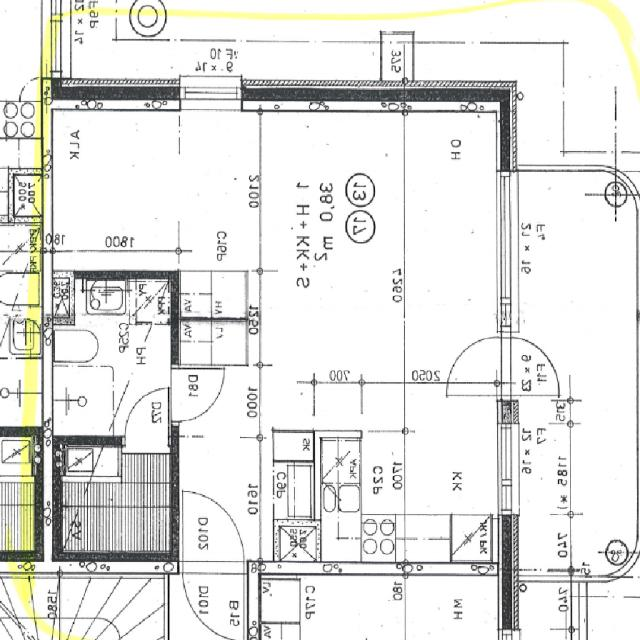door: (184, 493, 245, 574), (184, 562, 245, 640), (449, 337, 512, 395), (502, 337, 564, 395), (172, 369, 227, 421), (126, 388, 169, 445)
